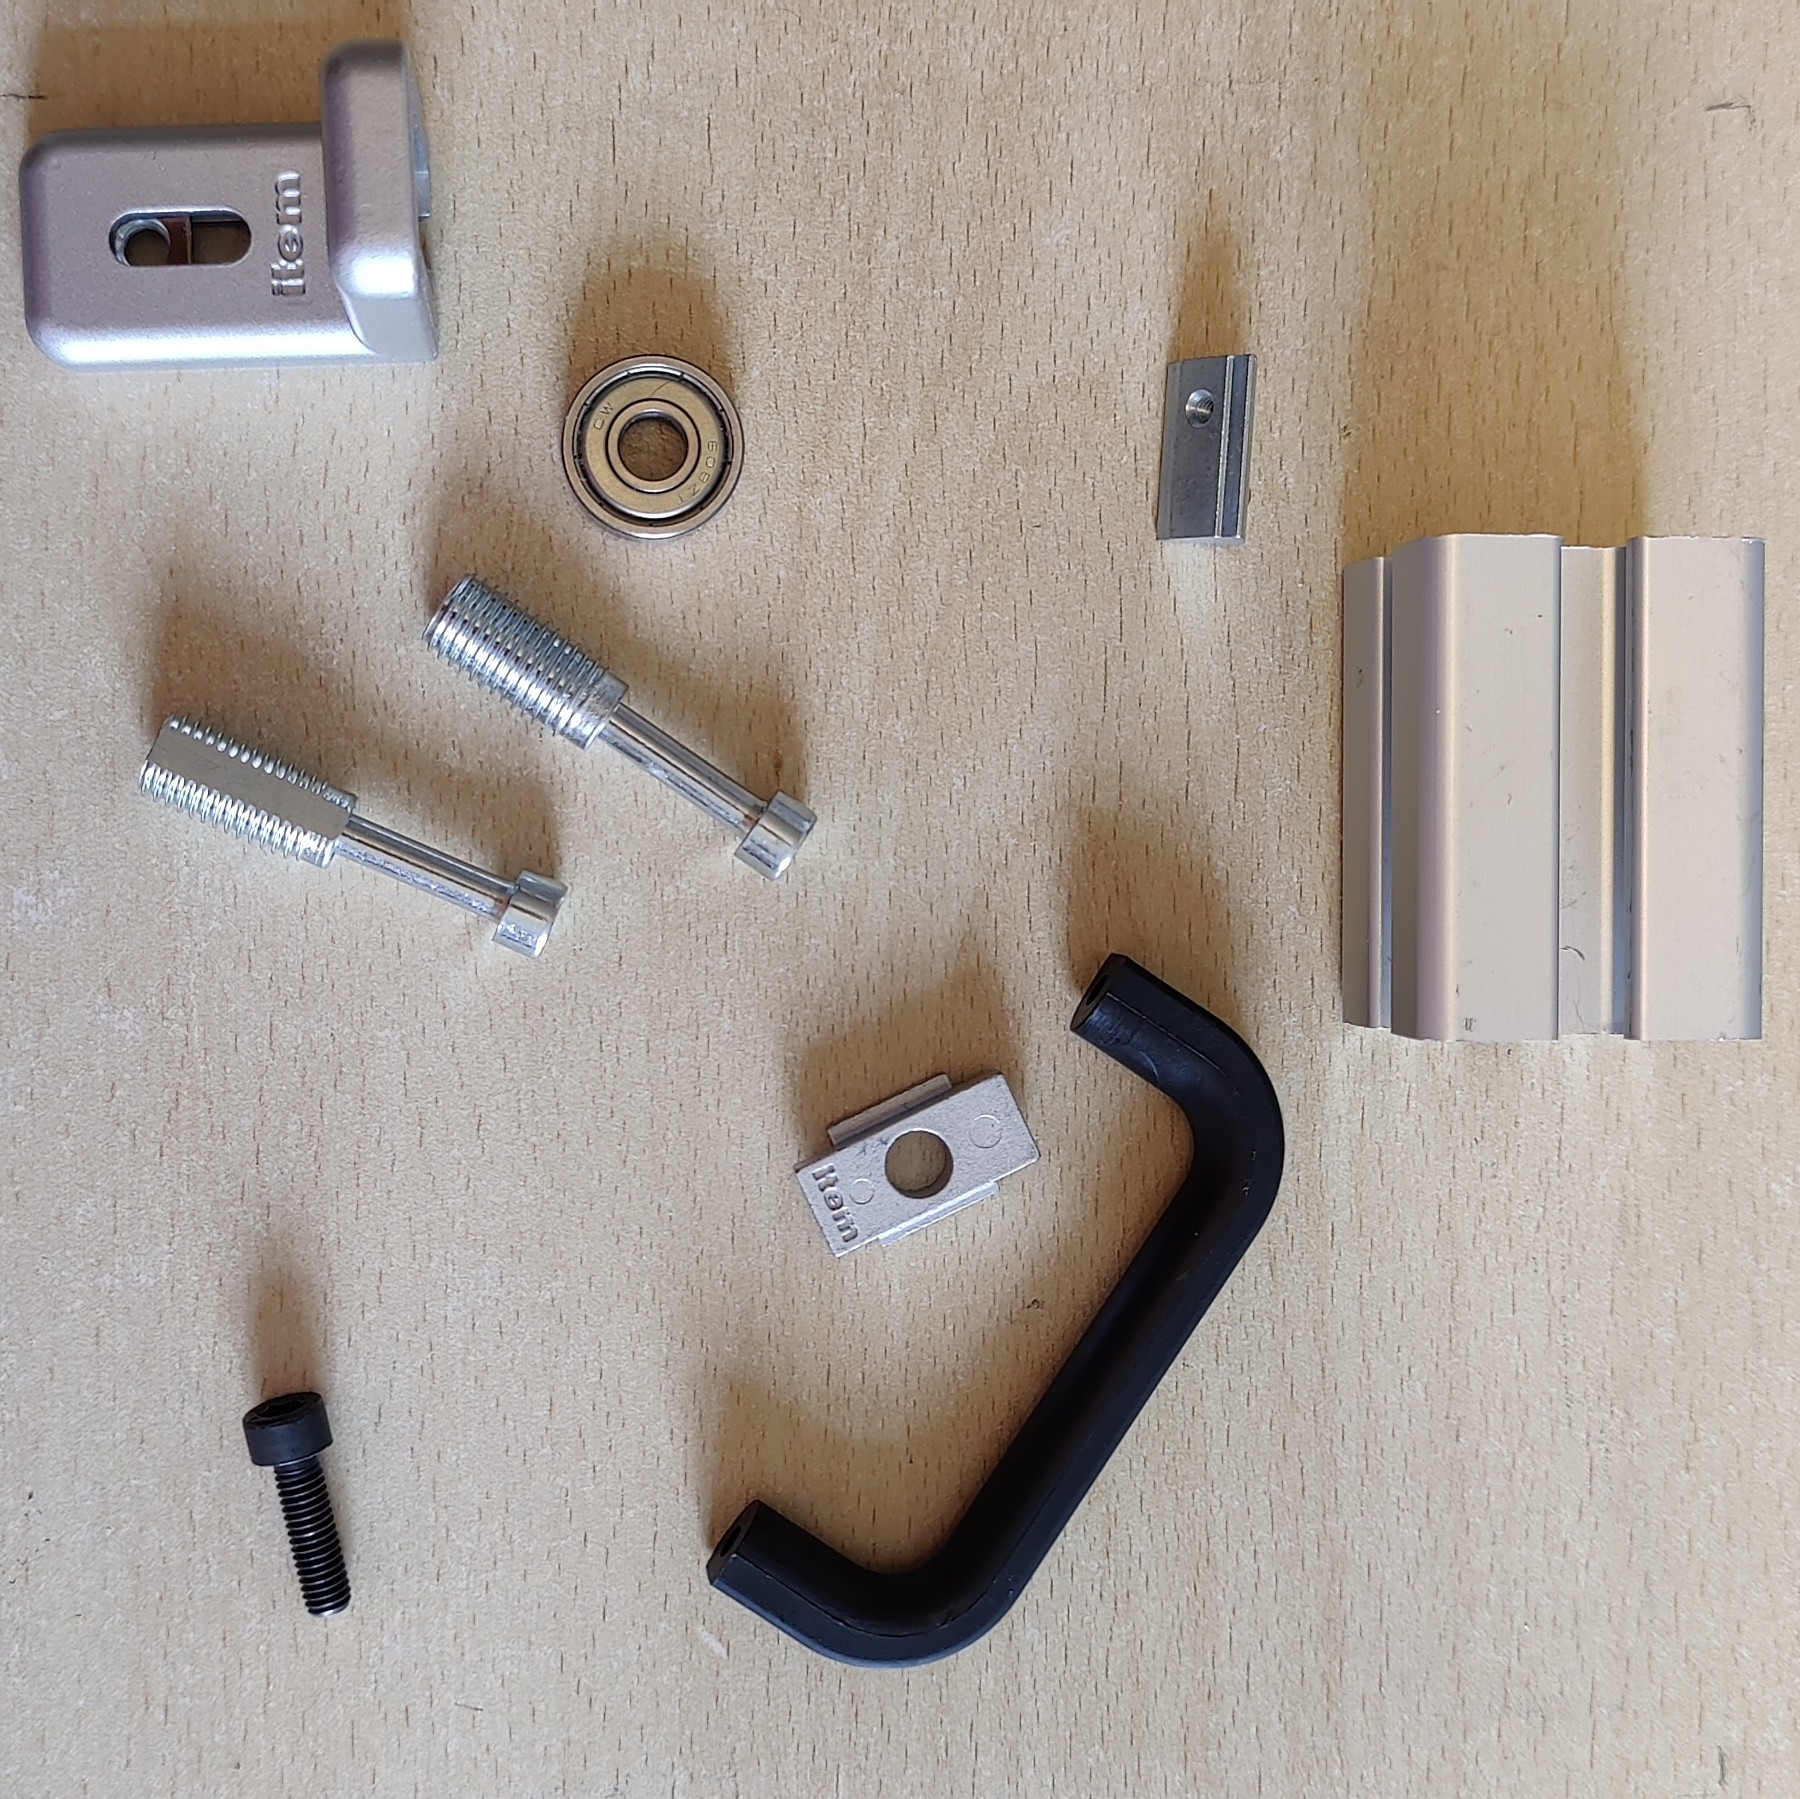Aluminium Extension: (1336, 529, 1769, 1044)
Ball Bearing: (562, 353, 748, 540)
Multiwinkel: (13, 41, 443, 376)
Pull Handle: (705, 949, 1288, 1669)
Shoulder Socket Head Cap Screw: (423, 575, 820, 885), (133, 703, 571, 965)
Socket Head Cap Screw: (242, 1387, 352, 1619)
T Nut Square: (794, 1069, 1044, 1264)
T Spring Nut: (1151, 349, 1261, 552)
